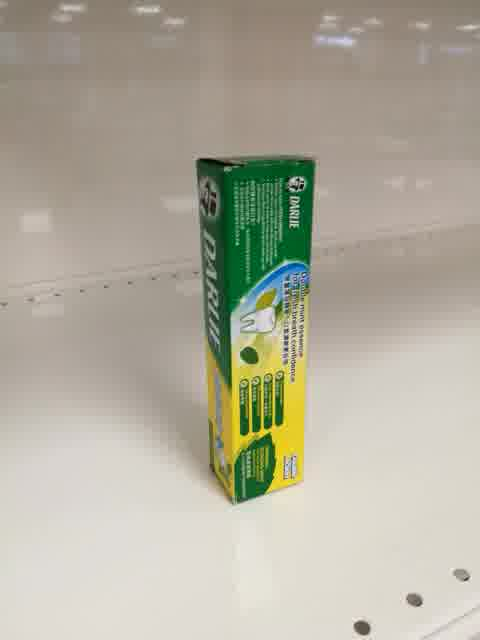toothpaste: (196, 156, 317, 506)
